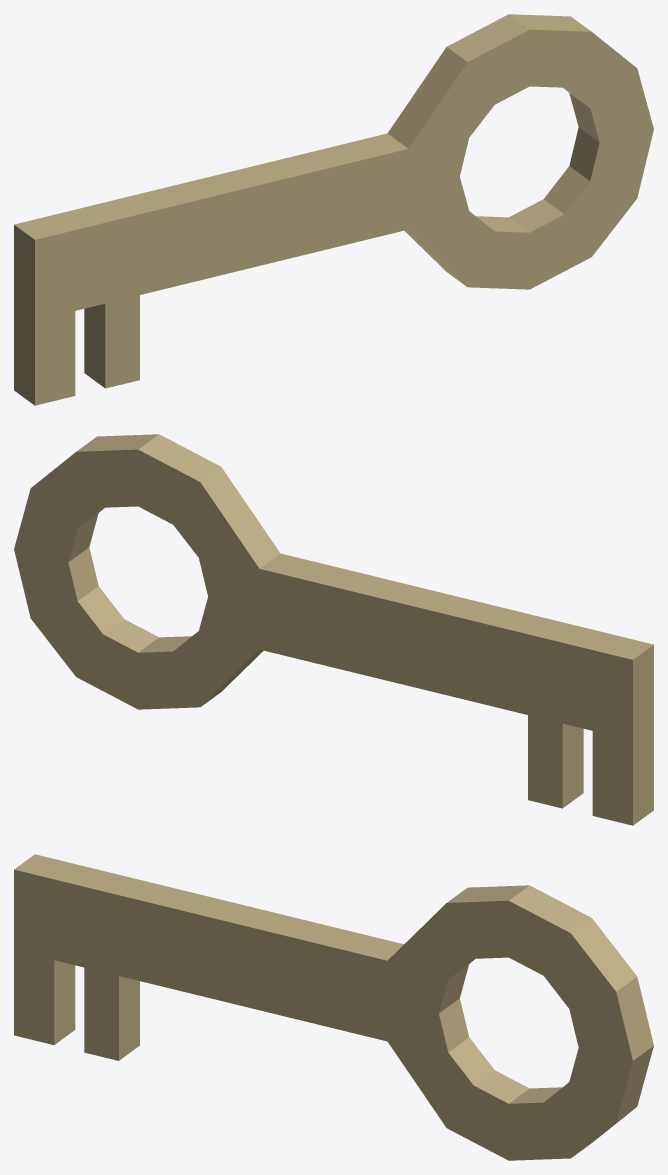
File: key.fbx
3 views of the same model, one above another, from view 1: azimuth 30°, elevation 25°; view 2: azimuth 150°, elevation 25°; view 3: azimuth 330°, elevation 25° (orthographic).
Parts seen in each view (by area): view 1: key; view 2: key; view 3: key.
Part boxes in pixels (x1,y1,x2,y2): key: (14,14,653,405); key: (14,434,653,825); key: (14,854,653,1160).
Bounding box in the file's own units: 176 × 70.63 × 10.33.
